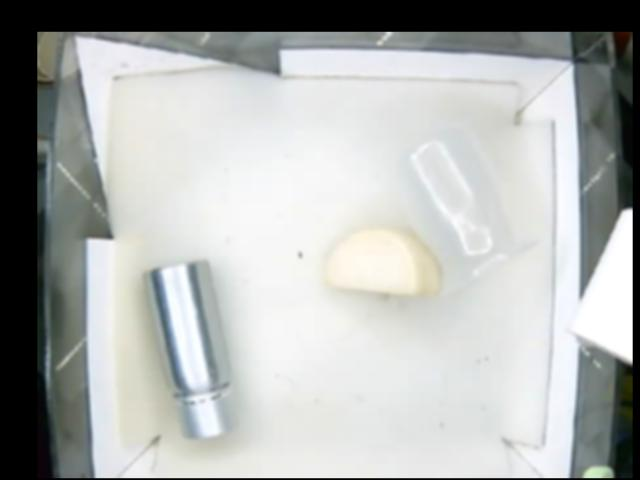Bottle: (398, 128, 534, 285), (142, 260, 232, 447)
Mooli: (322, 225, 443, 293)
